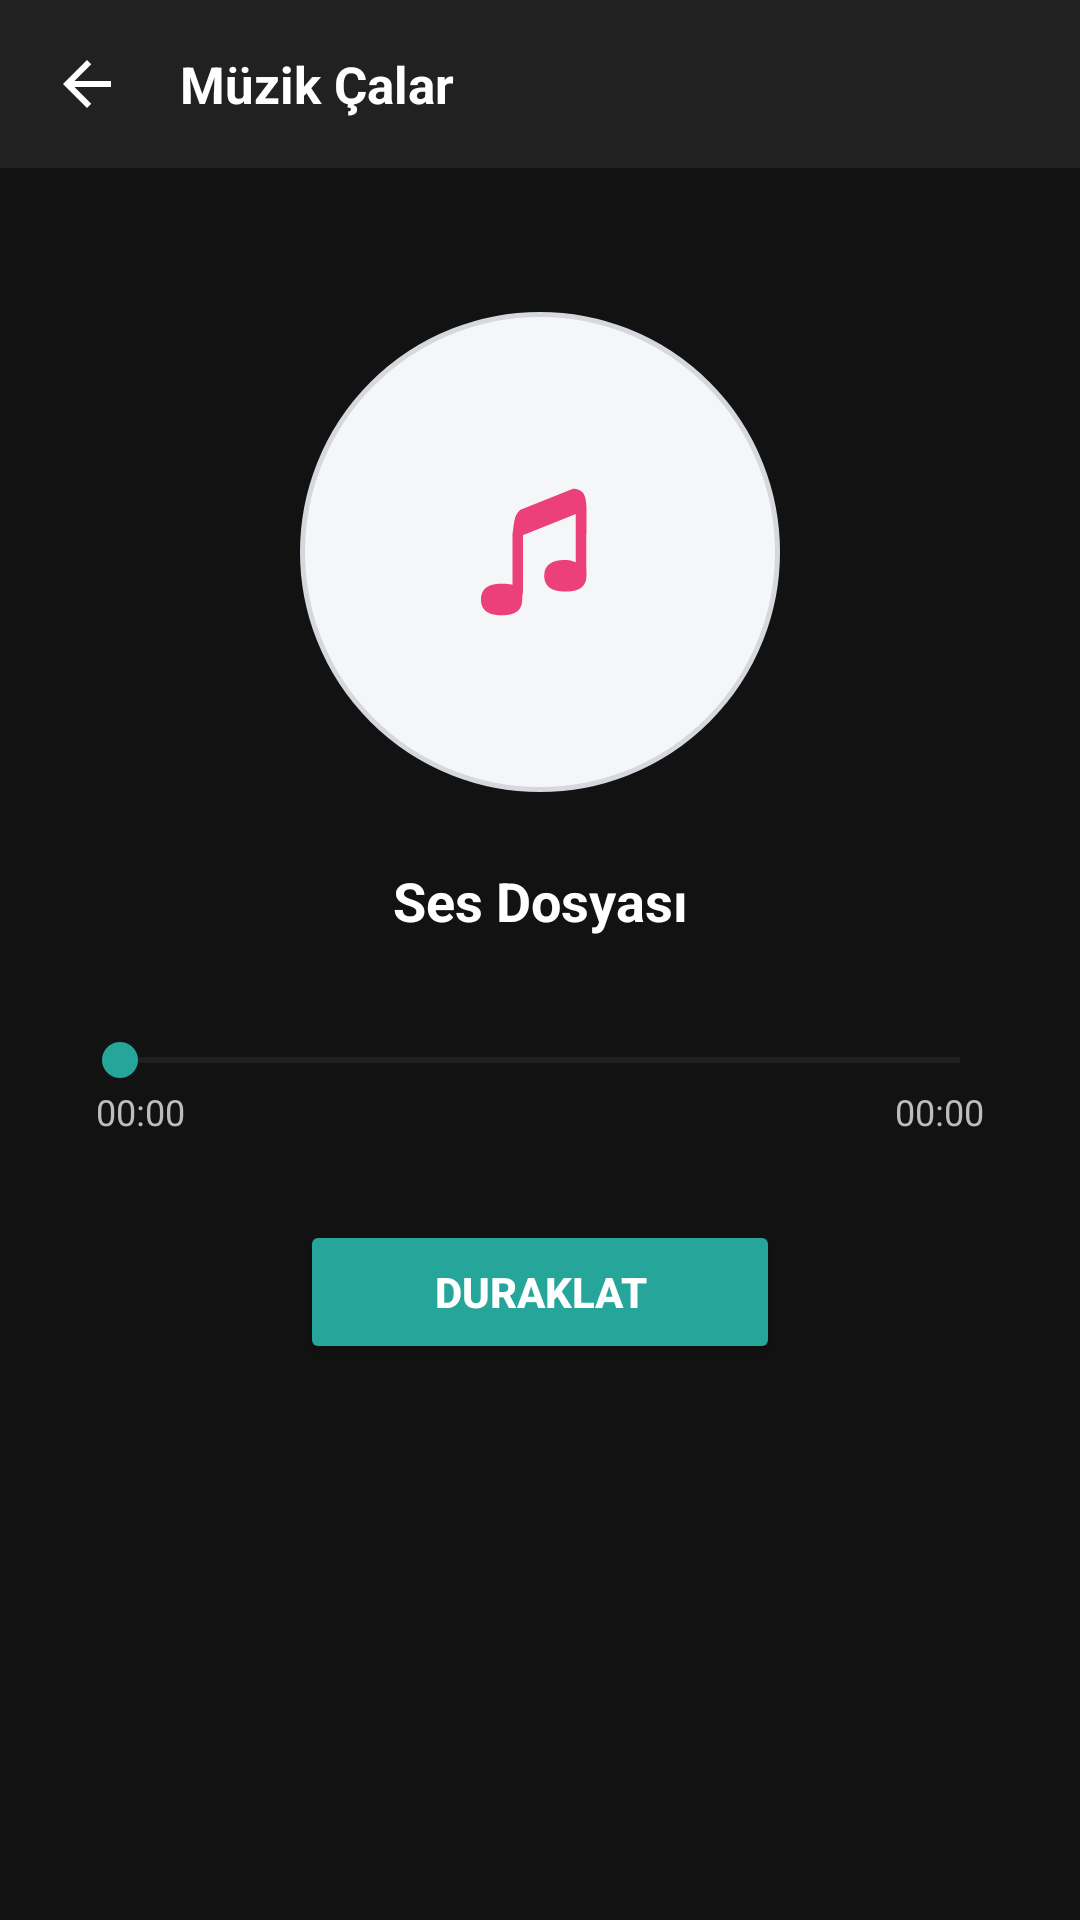

Screen size 1080 x 1920. Icon name, then its box in pixels as (x1, y1, x2, y2):
arrow back: (63, 60, 111, 108)
